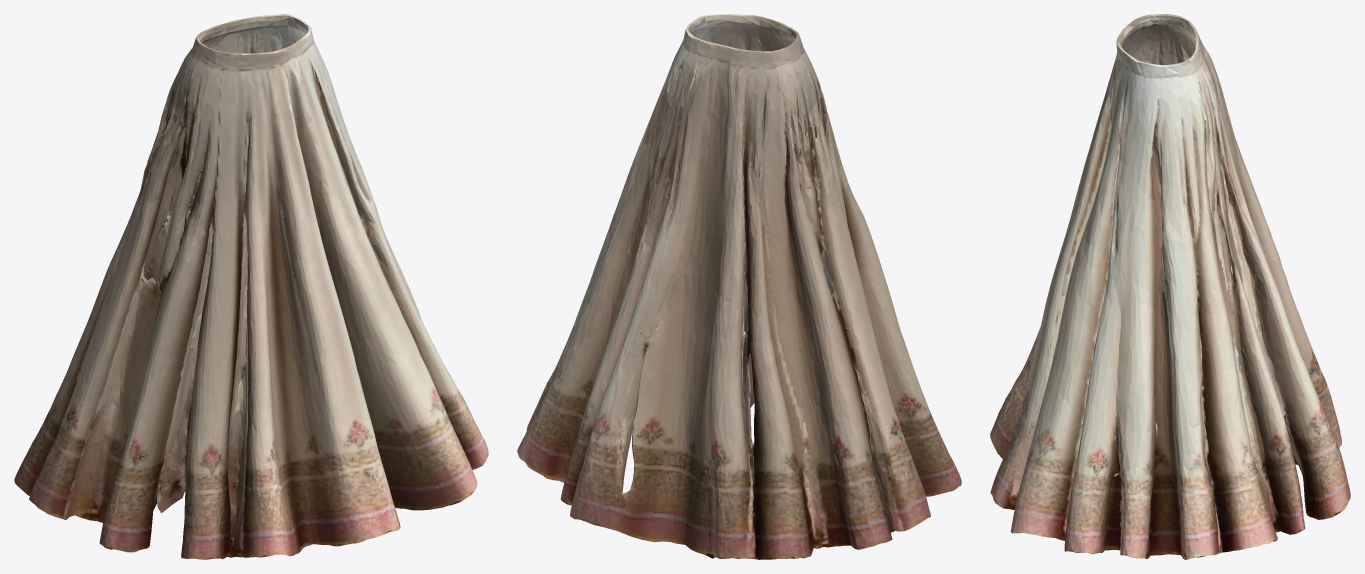
Rendered from lehenga.glb.
The picture shows the model from 3 angles, left to right: view 1: azimuth 30°, elevation 25°; view 2: azimuth 150°, elevation 25°; view 3: azimuth 270°, elevation 25°; orthographic projection. The views are drawn at different scales.
Visible parts, largest first — view 1: world; view 2: world; view 3: world.
Part boxes in pixels (x1,y1,x2,y2): world: (14,14,488,559); world: (517,14,961,559); world: (990,14,1350,559).
Size of the model in its own units: 1.79 by 1.98 by 1.43.
Materials: 1 (1 with a texture image).
